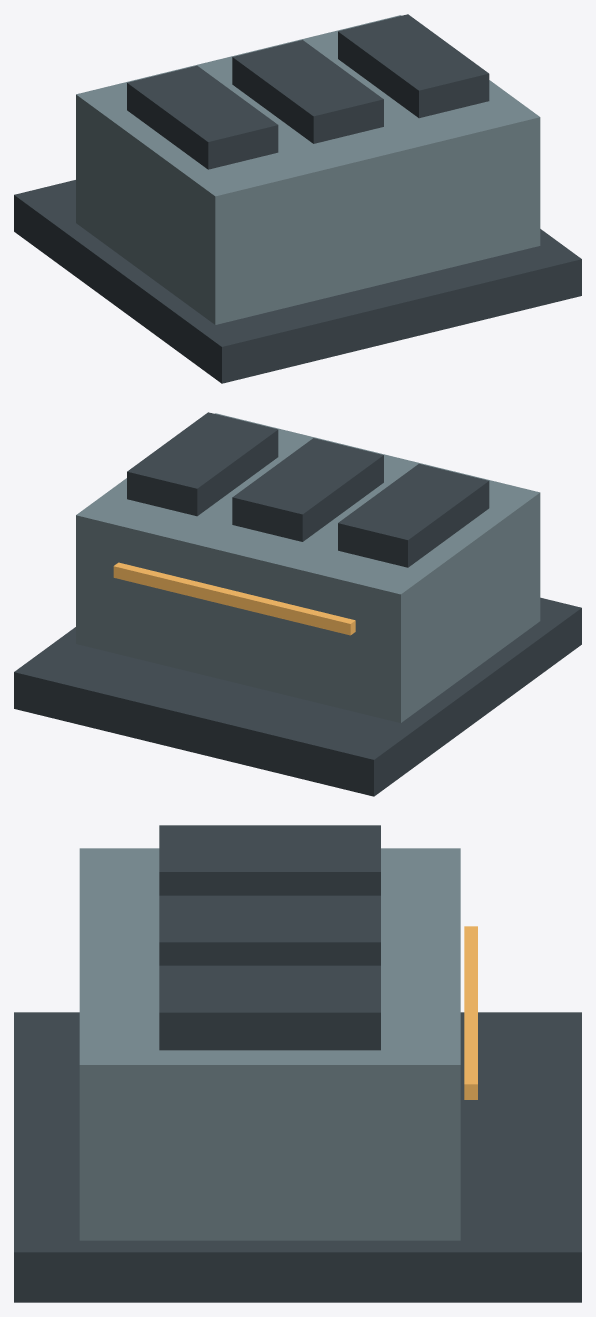
Rendered from Narrative-judgement_engine.glb.
3 renders of one model, top to bottom at view 1: azimuth 30°, elevation 25°; view 2: azimuth 150°, elevation 25°; view 3: azimuth 270°, elevation 25°, orthographic. The views are drawn at different scales.
Parts seen in each view (by area): view 1: Desk, Base, Outlet, Outlet.002, Outlet.001; view 2: Desk, Base, Outlet.002, Outlet, Outlet.001, HandoverLine; view 3: Desk, Base, Outlet.002, Outlet, Outlet.001, HandoverLine.
Part boxes in pixels (x1=…): Desk: x1=76, y1=15, x2=540, y2=324; Base: x1=14, y1=180, x2=581, y2=383; Outlet: x1=127, y1=65, x2=278, y2=169; Outlet.002: x1=338, y1=14, x2=489, y2=118; Outlet.001: x1=232, y1=40, x2=383, y2=143; Desk: x1=76, y1=413, x2=540, y2=722; Base: x1=14, y1=597, x2=581, y2=796; Outlet.002: x1=127, y1=412, x2=278, y2=516; Outlet: x1=338, y1=464, x2=489, y2=567; Outlet.001: x1=232, y1=438, x2=383, y2=541; HandoverLine: x1=113, y1=562, x2=355, y2=635; Desk: x1=79, y1=848, x2=460, y2=1240; Base: x1=14, y1=1012, x2=581, y2=1302; Outlet.002: x1=159, y1=965, x2=380, y2=1050; Outlet: x1=159, y1=825, x2=380, y2=895; Outlet.001: x1=159, y1=895, x2=380, y2=965; HandoverLine: x1=464, y1=926, x2=477, y2=1099.
Bounding box in the file's own units: 1.64 × 0.84 × 1.64.
